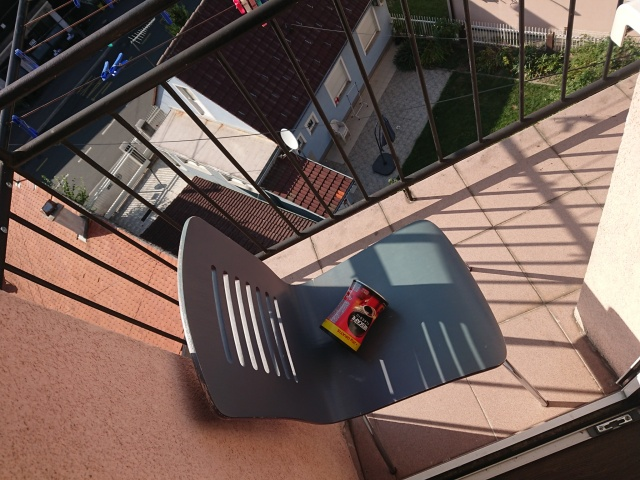Nescafe Classic 225g: (316, 275, 391, 356)
